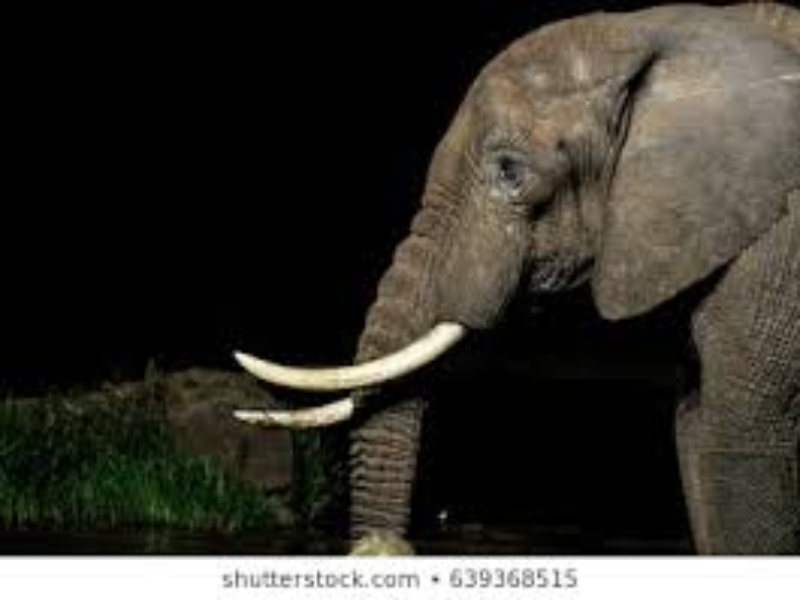elephant: (290, 18, 784, 556)
